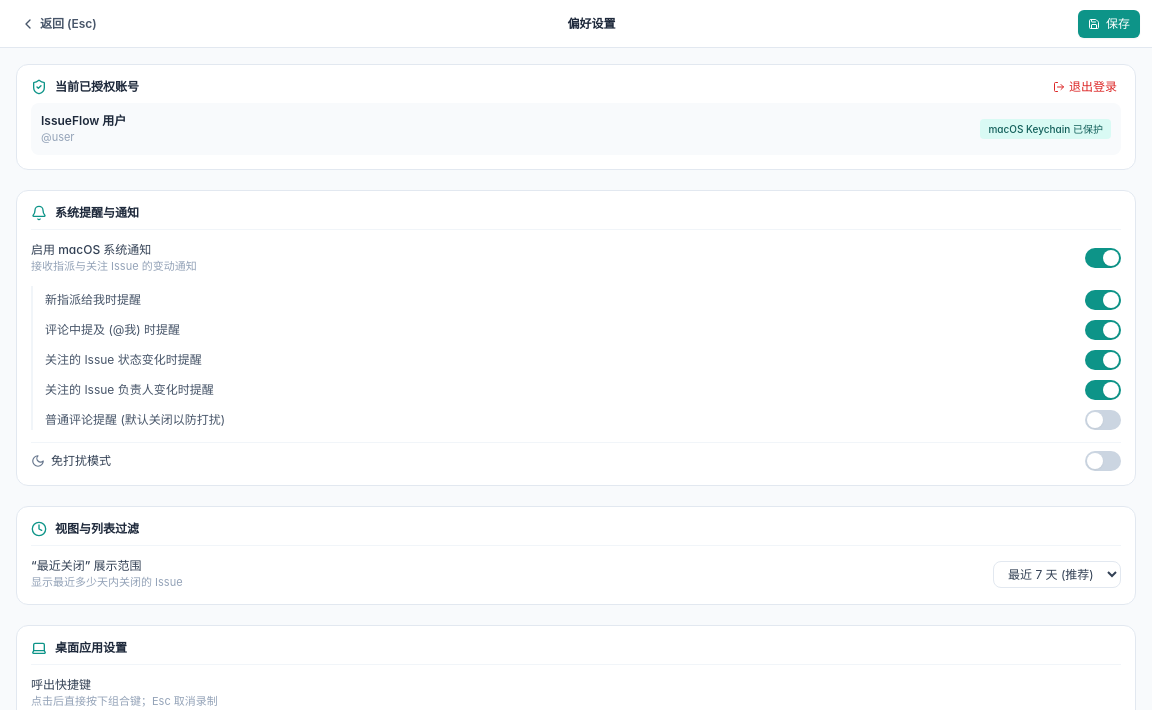
Test case: SettingsPage › displays explicit message when server succeeds and local app config save fails
The image size is (1152, 710).
Expected: the text "启用 macOS 系统通知" is shown, [31,242,151,257]
Click the button "保存" at {"x": 1109, "y": 24}, box [1078,10,1140,38]
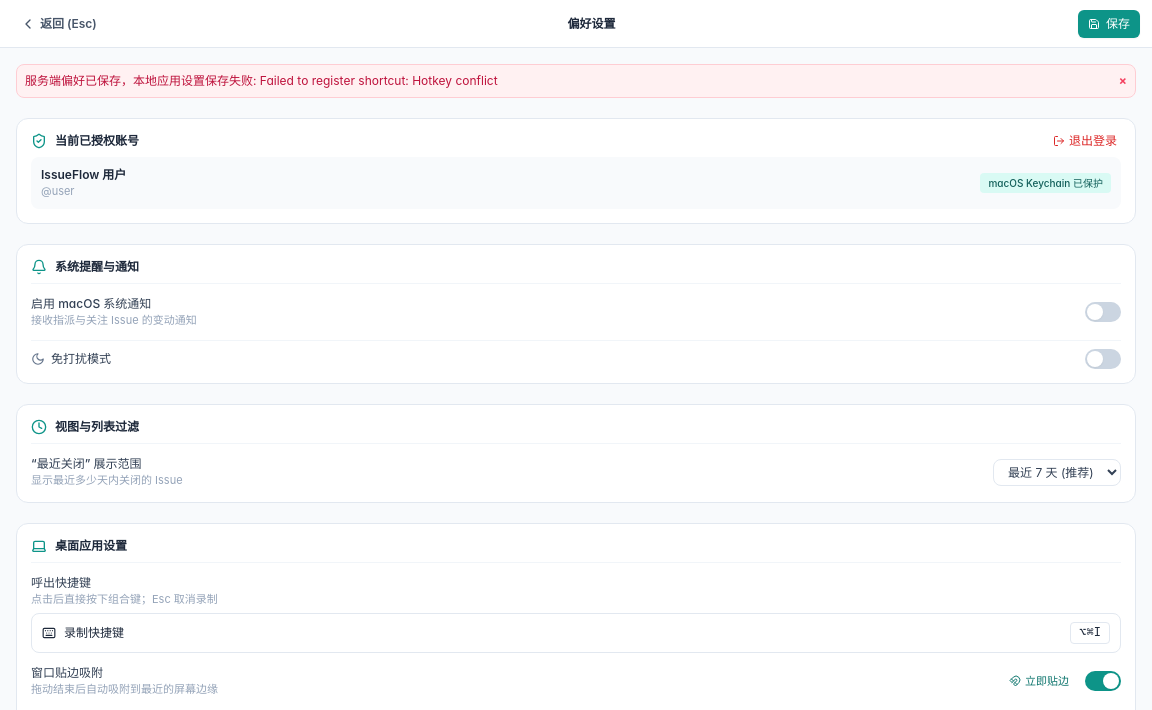
Result: the text "服务端偏好已保存，本地应用设置保存失败: Failed to register shortcut: Hotkey conflict" is shown at [25,73,498,89]
